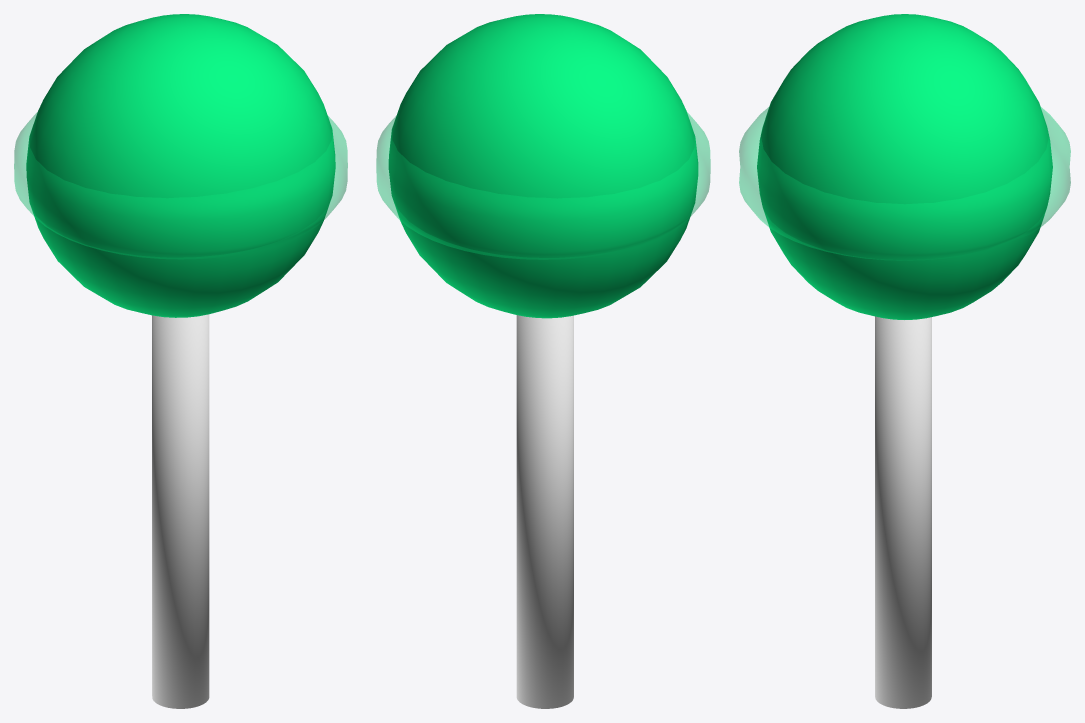
File: lollipop-e1Ov_XbY.glb
3 renders of one model, left to right at view 1: azimuth 30°, elevation 25°; view 2: azimuth 150°, elevation 25°; view 3: azimuth 270°, elevation 25°, orthographic.
Visible parts, largest first — view 1: Sphere, sgick, Torus; view 2: Sphere, sgick, Torus; view 3: Sphere, sgick, Torus.
Boxes of the visible parts, x1=… form: Sphere: x1=26, y1=14, x2=335, y2=317; sgick: x1=152, y1=314, x2=209, y2=708; Torus: x1=14, y1=112, x2=347, y2=259; Sphere: x1=388, y1=14, x2=698, y2=318; sgick: x1=516, y1=315, x2=573, y2=708; Torus: x1=376, y1=112, x2=710, y2=259; Sphere: x1=757, y1=14, x2=1052, y2=319; sgick: x1=875, y1=316, x2=931, y2=708; Torus: x1=739, y1=107, x2=1070, y2=260.
Bounding box in the file's own units: 2.4 × 5.29 × 2.38.
